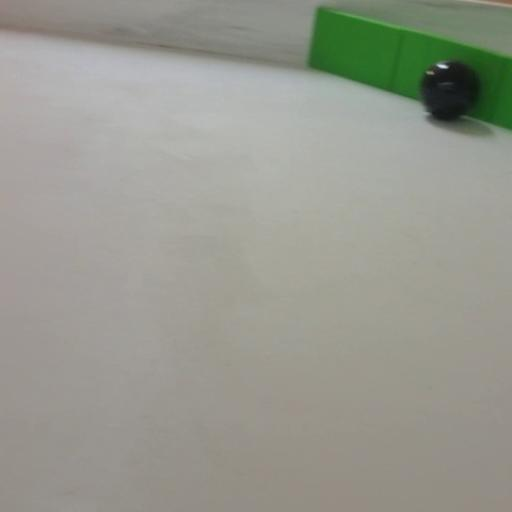dead: (418, 57, 481, 121)
